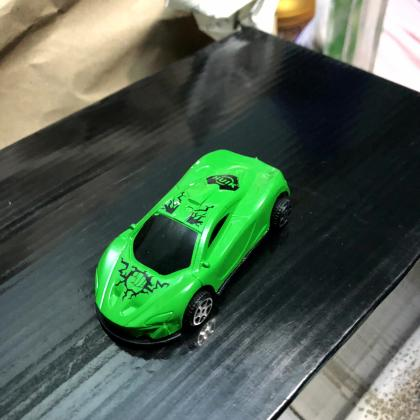Car: (94, 150, 293, 348)
